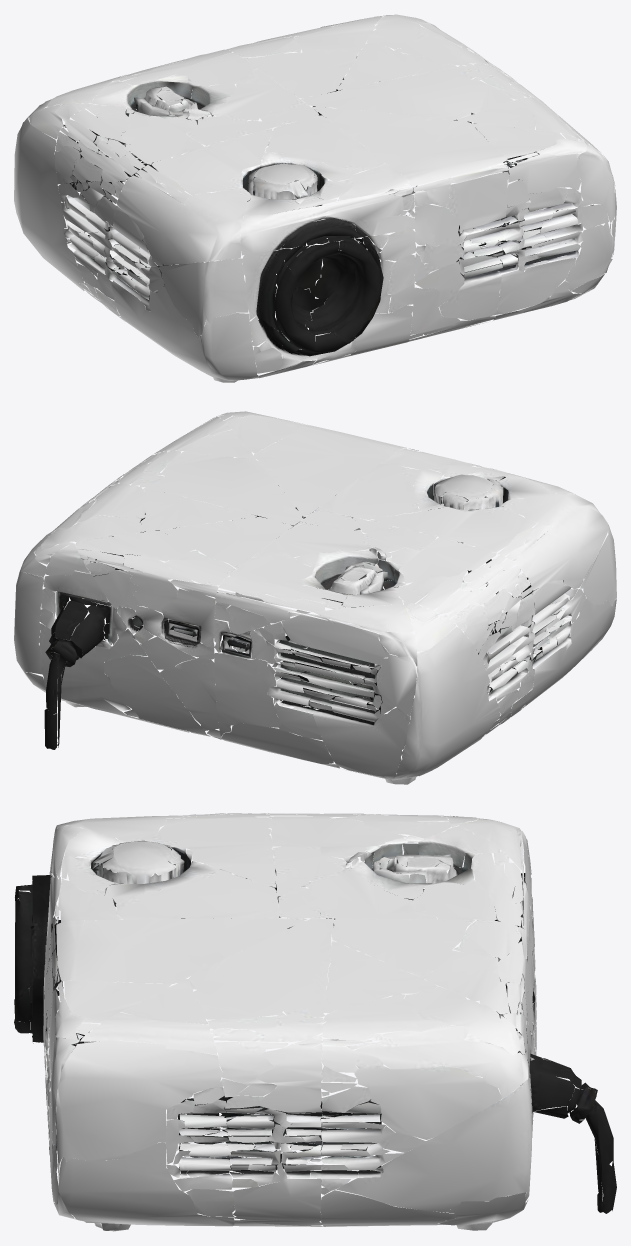
Rendered from projector_prop.glb.
The picture shows the model from 3 angles, top to bottom: view 1: azimuth 30°, elevation 25°; view 2: azimuth 150°, elevation 25°; view 3: azimuth 270°, elevation 25°; orthographic projection. The views are drawn at different scales.
Parts seen in each view (by area): view 1: prop_projector; view 2: prop_projector; view 3: prop_projector.
Part boxes in pixels (box(x1,y1,x2,y2)): prop_projector: box(14, 14, 616, 382); prop_projector: box(14, 411, 616, 784); prop_projector: box(14, 813, 616, 1231).
Bounding box in the file's own units: 0.9809 × 0.4043 × 0.9794.
Materials: 1 (1 with a texture image).
